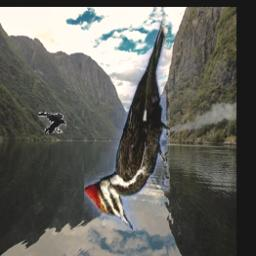Crow: (37, 112, 65, 133)
Woodpecker: (84, 11, 170, 230)
